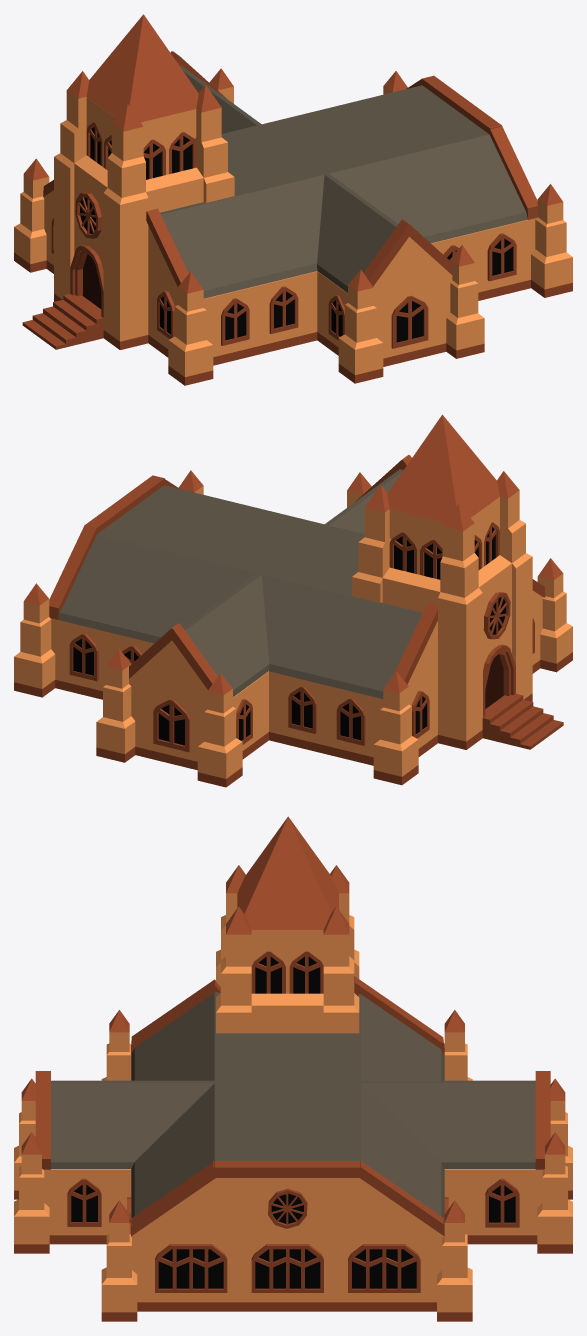
File: church.obj
3 renders of one model, top to bottom at view 1: azimuth 30°, elevation 25°; view 2: azimuth 150°, elevation 25°; view 3: azimuth 270°, elevation 25°, orthographic. The views are drawn at different scales.
Visible parts, largest first — view 1: church2; view 2: church2; view 3: church2.
Boxes of the visible parts, x1=… form: church2: x1=14, y1=14, x2=572, y2=385; church2: x1=14, y1=414, x2=572, y2=787; church2: x1=14, y1=816, x2=572, y2=1321.
Bounding box in the file's own units: 110 × 70.23 × 110.
